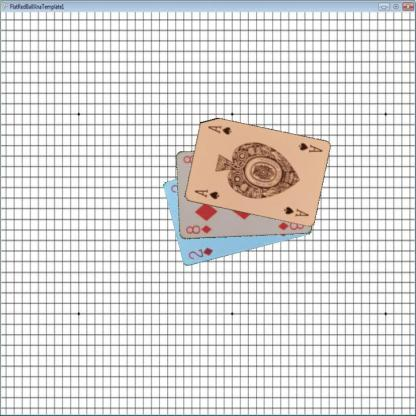2d: (186, 245, 214, 261)
8d: (183, 223, 212, 235)
As: (192, 187, 221, 201), (296, 140, 323, 154)
